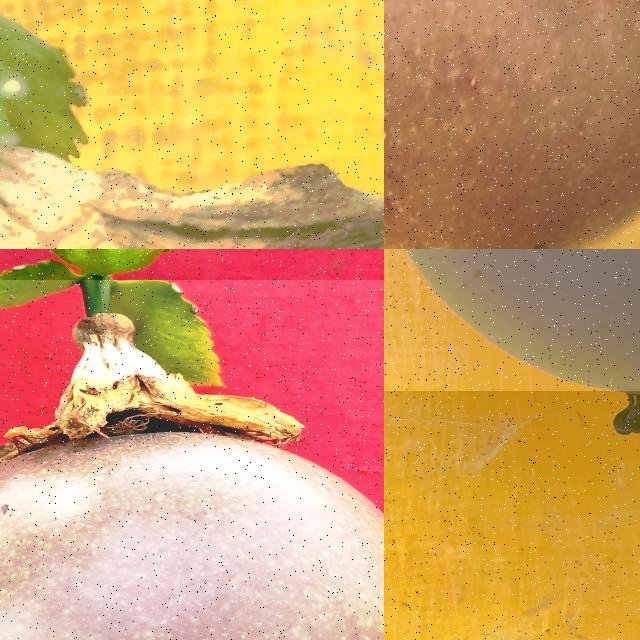Estado-3: (0, 18, 384, 249)
Estado-4: (0, 281, 384, 640)
Estado-5: (403, 249, 640, 391)
